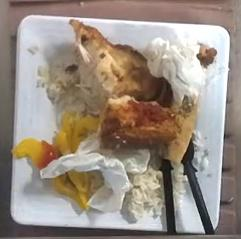peppers: (12, 110, 98, 168), (54, 171, 104, 210)
pizza_crust: (101, 95, 196, 163)
pork: (70, 20, 162, 101)
rice: (123, 167, 165, 230)
